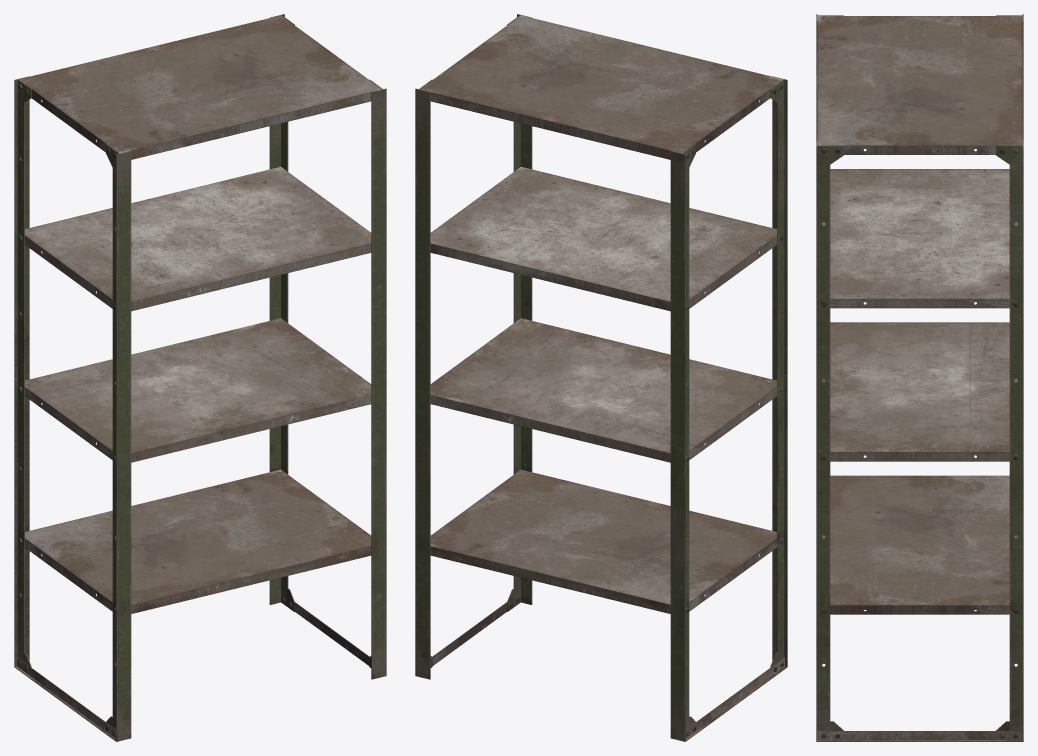
The model's file is worn_metal_rack.gltf.
3 views of the same model, side by side, from view 1: azimuth 30°, elevation 25°; view 2: azimuth 150°, elevation 25°; view 3: azimuth 270°, elevation 25° (orthographic).
Parts seen in each view (by area): view 1: worn_metal_rack; view 2: worn_metal_rack; view 3: worn_metal_rack.
Boxes of the visible parts, x1,y1,x2,y2 form: worn_metal_rack: (14, 14, 386, 741); worn_metal_rack: (415, 14, 787, 741); worn_metal_rack: (816, 14, 1023, 741).
Bounding box in the file's own units: 0.9154 × 1.9 × 0.6.
Materials: 1 (1 with a texture image).
